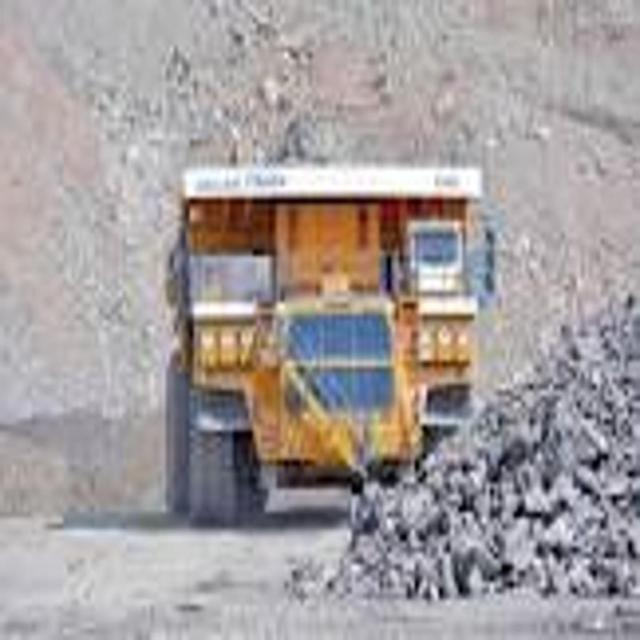dump_truck: (165, 129, 490, 533)
